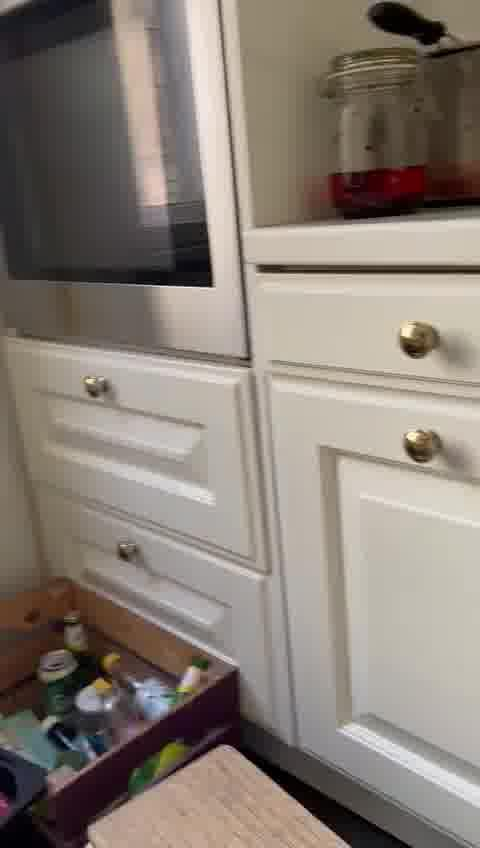cabinet_door: (295, 374, 480, 791), (4, 353, 259, 509), (54, 529, 274, 639), (263, 277, 476, 370)
handle: (396, 423, 454, 471), (392, 316, 446, 364), (110, 537, 145, 568), (82, 374, 115, 405)
